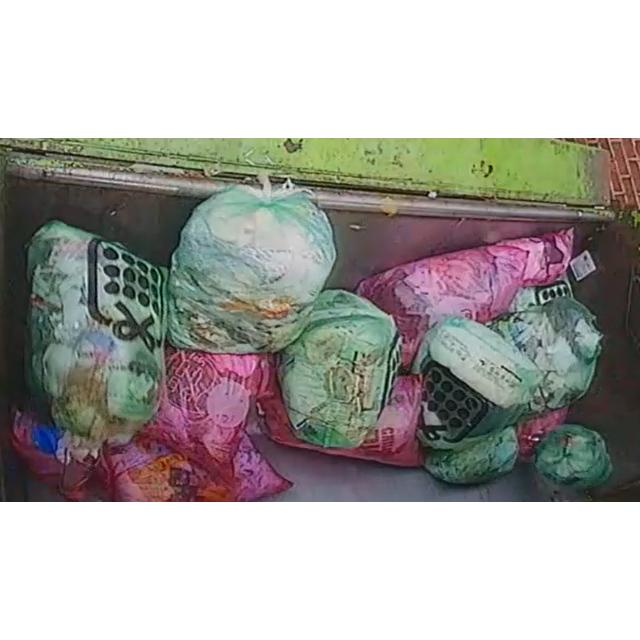general_trashbag: (28, 220, 165, 451), (168, 187, 336, 354), (279, 289, 400, 448), (415, 317, 541, 449), (489, 297, 602, 412), (425, 427, 519, 484), (534, 424, 612, 486)
other_trashbag: (356, 228, 574, 369), (152, 348, 275, 478), (258, 376, 424, 467), (105, 434, 291, 502), (11, 410, 102, 501)
